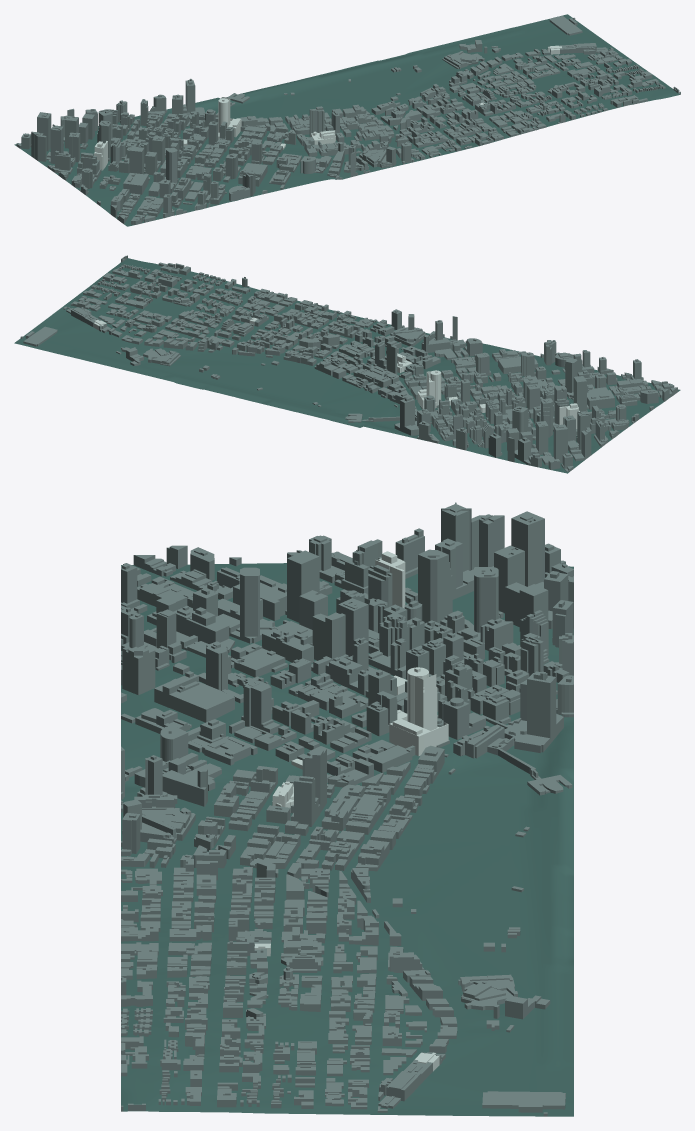
File: sfu-vancouver.glb
3 views of the same model, one above another, from view 1: azimuth 30°, elevation 25°; view 2: azimuth 150°, elevation 25°; view 3: azimuth 270°, elevation 25° (orthographic). The views are drawn at different scales.
Parts seen in each view (by area): view 1: Estimated ground · building-base interpolation, Surrounding building 168793, Surrounding building 160532, Surrounding building 162985, Surrounding building 164857, Surrounding building 165954, Surrounding building 166310; view 2: Estimated ground · building-base interpolation, Surrounding building 164857, Surrounding building 160532, Surrounding building 168793, Surrounding building 165045, Surrounding building 169089, Surrounding building 164923, Surrounding building 162985, Surrounding building 166310, Surrounding building 166063; view 3: Estimated ground · building-base interpolation, Surrounding building 166960, Surrounding building 164857, Surrounding building 165045, Surrounding building 162658, Surrounding building 160532, Surrounding building 162985, Surrounding building 166310, Surrounding building 164923, Surrounding building 169089, Surrounding building 168814, Surrounding building 166063 (+7 smaller).
Part boxes in pixels (bbox=[...]): Estimated ground · building-base interpolation: bbox=[14, 14, 679, 226]; Surrounding building 168793: bbox=[123, 173, 148, 194]; Surrounding building 160532: bbox=[129, 146, 144, 174]; Surrounding building 162985: bbox=[166, 147, 177, 183]; Surrounding building 164857: bbox=[37, 112, 51, 151]; Surrounding building 165954: bbox=[309, 109, 324, 137]; Surrounding building 166310: bbox=[549, 15, 582, 35]; Estimated ground · building-base interpolation: bbox=[14, 258, 680, 473]; Surrounding building 164857: bbox=[553, 424, 567, 463]; Surrounding building 160532: bbox=[573, 376, 586, 411]; Surrounding building 168793: bbox=[587, 390, 614, 409]; Surrounding building 165045: bbox=[400, 398, 414, 432]; Surrounding building 169089: bbox=[536, 421, 548, 454]; Surrounding building 164923: bbox=[512, 406, 528, 439]; Surrounding building 162985: bbox=[565, 358, 577, 392]; Surrounding building 166310: bbox=[23, 326, 57, 346]; Surrounding building 166063: bbox=[526, 384, 540, 409]; Estimated ground · building-base interpolation: bbox=[121, 563, 573, 1116]; Surrounding building 166960: bbox=[418, 549, 448, 623]; Surrounding building 164857: bbox=[511, 511, 544, 586]; Surrounding building 165045: bbox=[527, 673, 556, 743]; Surrounding building 162658: bbox=[169, 682, 234, 722]; Surrounding building 160532: bbox=[287, 550, 319, 622]; Surrounding building 162985: bbox=[240, 567, 259, 641]; Surrounding building 166310: bbox=[482, 1091, 565, 1109]; Surrounding building 164923: bbox=[474, 567, 498, 632]; Surrounding building 169089: bbox=[494, 545, 524, 613]; Surrounding building 168814: bbox=[243, 680, 271, 729]; Surrounding building 166063: bbox=[338, 598, 368, 656].
Bounding box in the file's own units: 2400 × 171 × 850.
